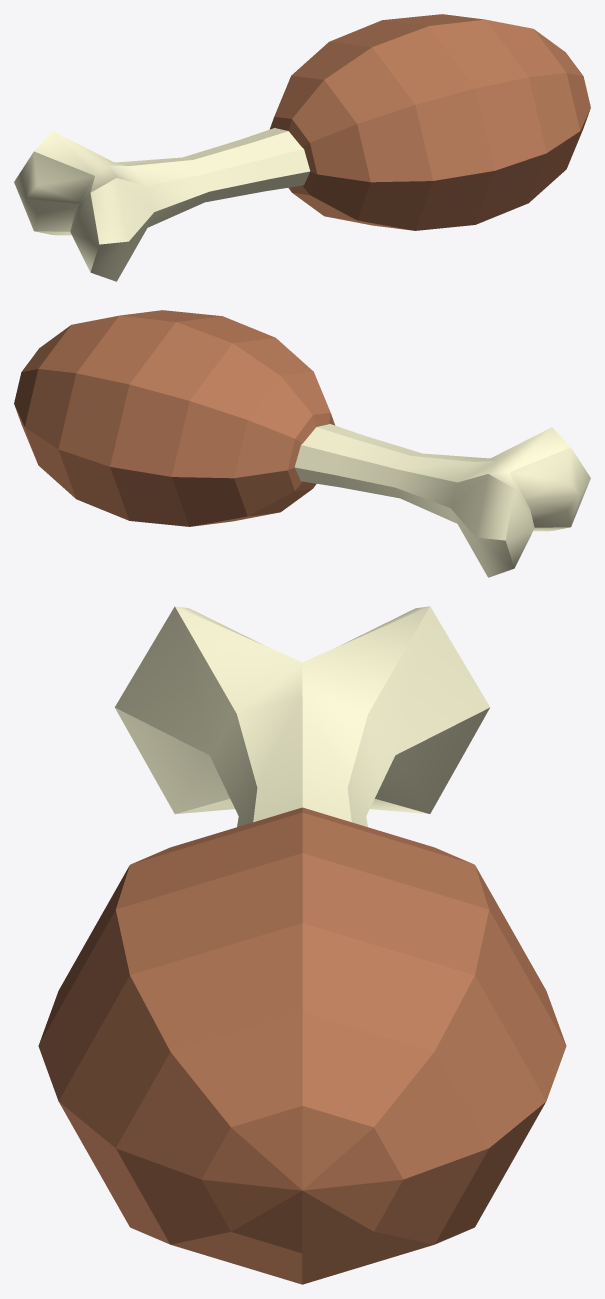
Rendered from ChickenMeat.fbx.
3 renders of one model, top to bottom at view 1: azimuth 30°, elevation 25°; view 2: azimuth 150°, elevation 25°; view 3: azimuth 270°, elevation 25°, orthographic. The views are drawn at different scales.
Visible parts, largest first — view 1: ChickenMeat; view 2: ChickenMeat; view 3: ChickenMeat.
Boxes of the visible parts, x1,y1,x2,y2 form: ChickenMeat: (14, 14, 590, 281); ChickenMeat: (14, 310, 590, 577); ChickenMeat: (38, 606, 566, 1284).
Bounding box in the file's own units: 9.46 × 3.3 × 4.09.
